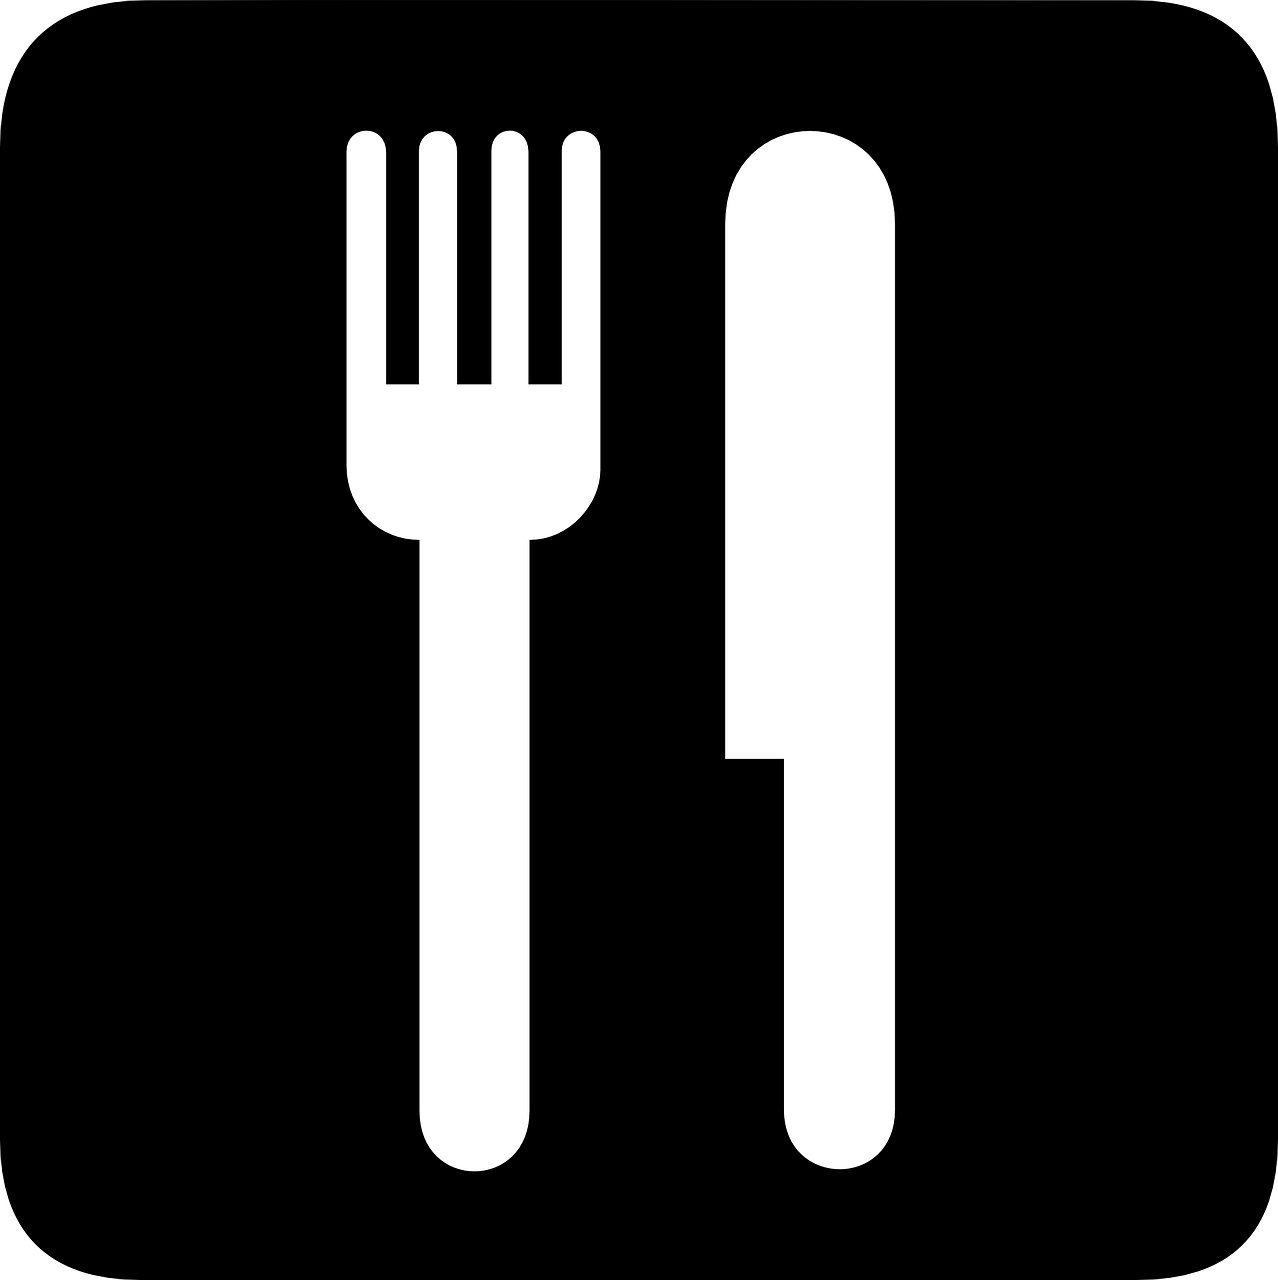knife: (714, 126, 903, 1172)
